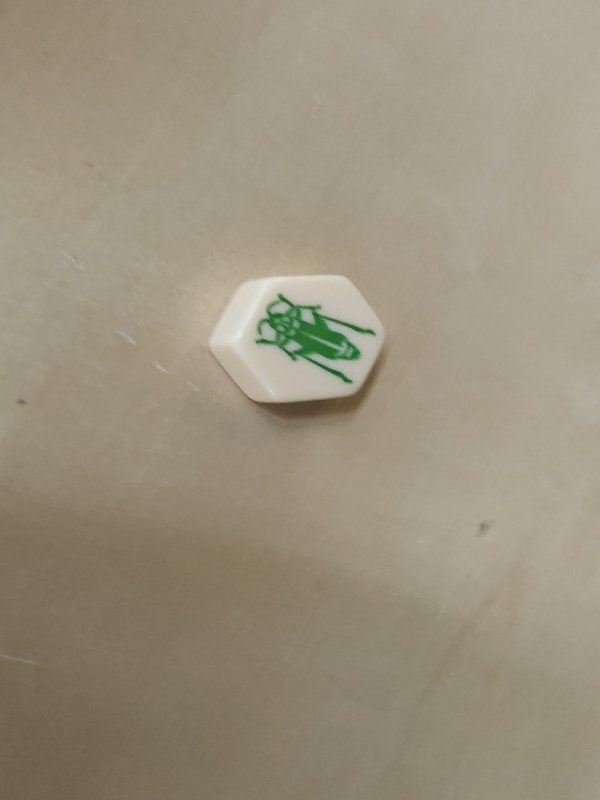white_grasshopper: (208, 267, 396, 408)
